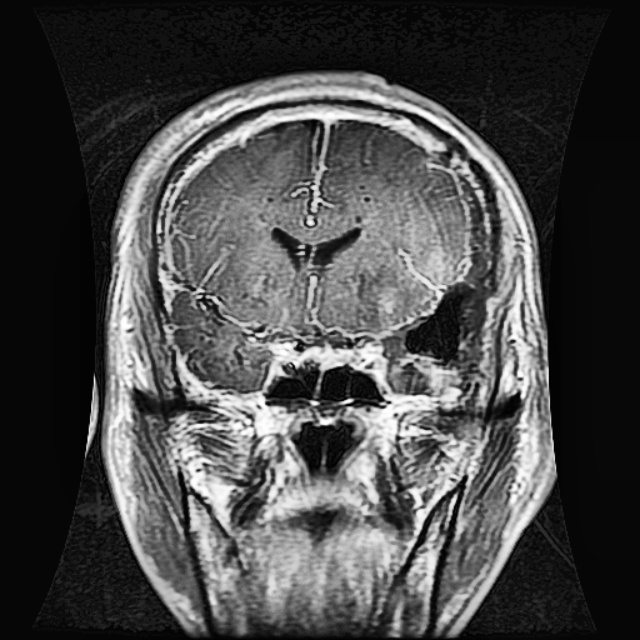Meningioma: (382, 167, 489, 392)
